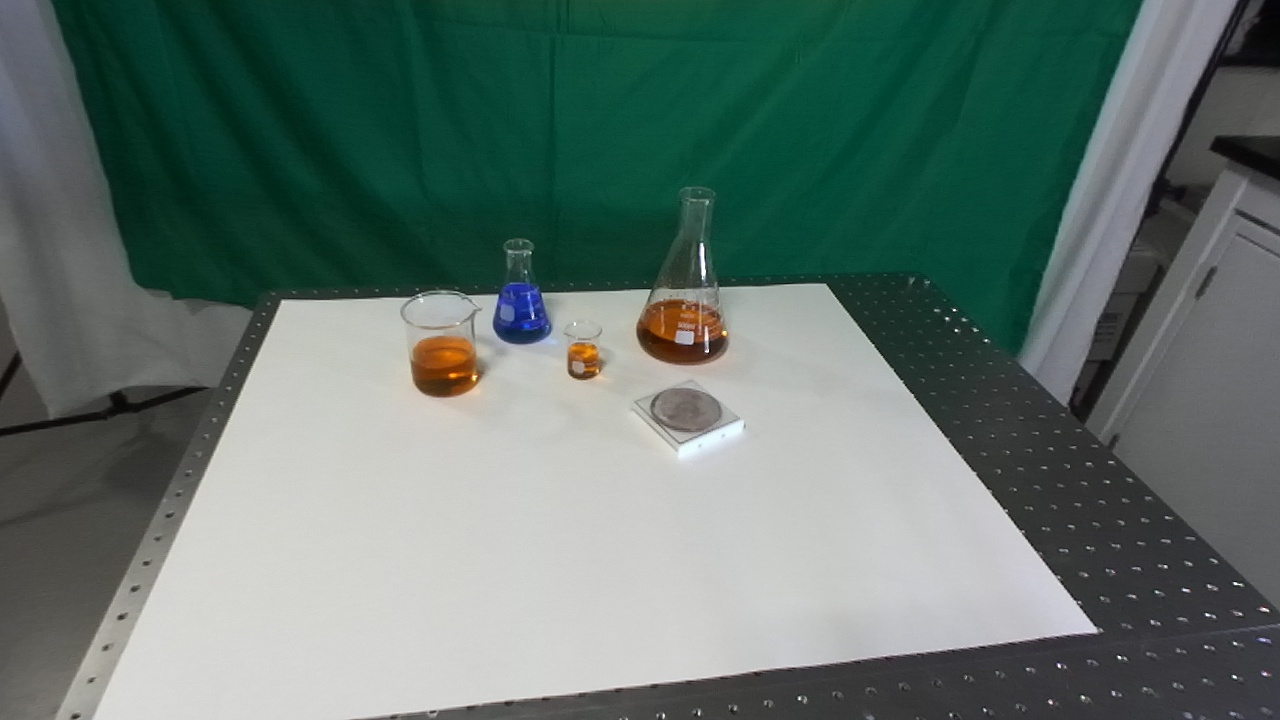glass: (631, 181, 733, 369), (398, 285, 487, 401), (487, 235, 554, 347), (560, 316, 605, 383)
plate: (627, 375, 748, 461)
